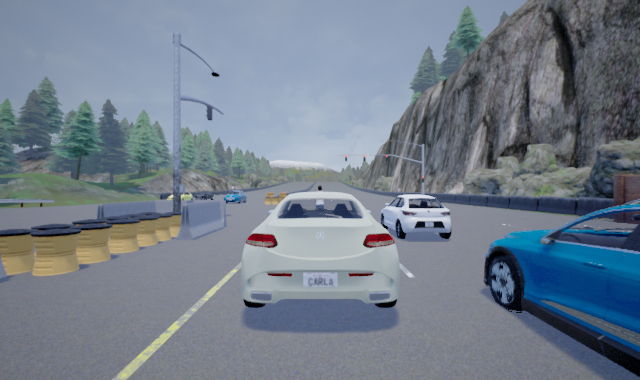bike: (315, 184, 325, 217)
vehicle: (481, 199, 639, 379), (240, 191, 399, 309), (378, 194, 453, 240), (166, 191, 193, 204), (224, 189, 248, 203), (193, 190, 215, 201)
